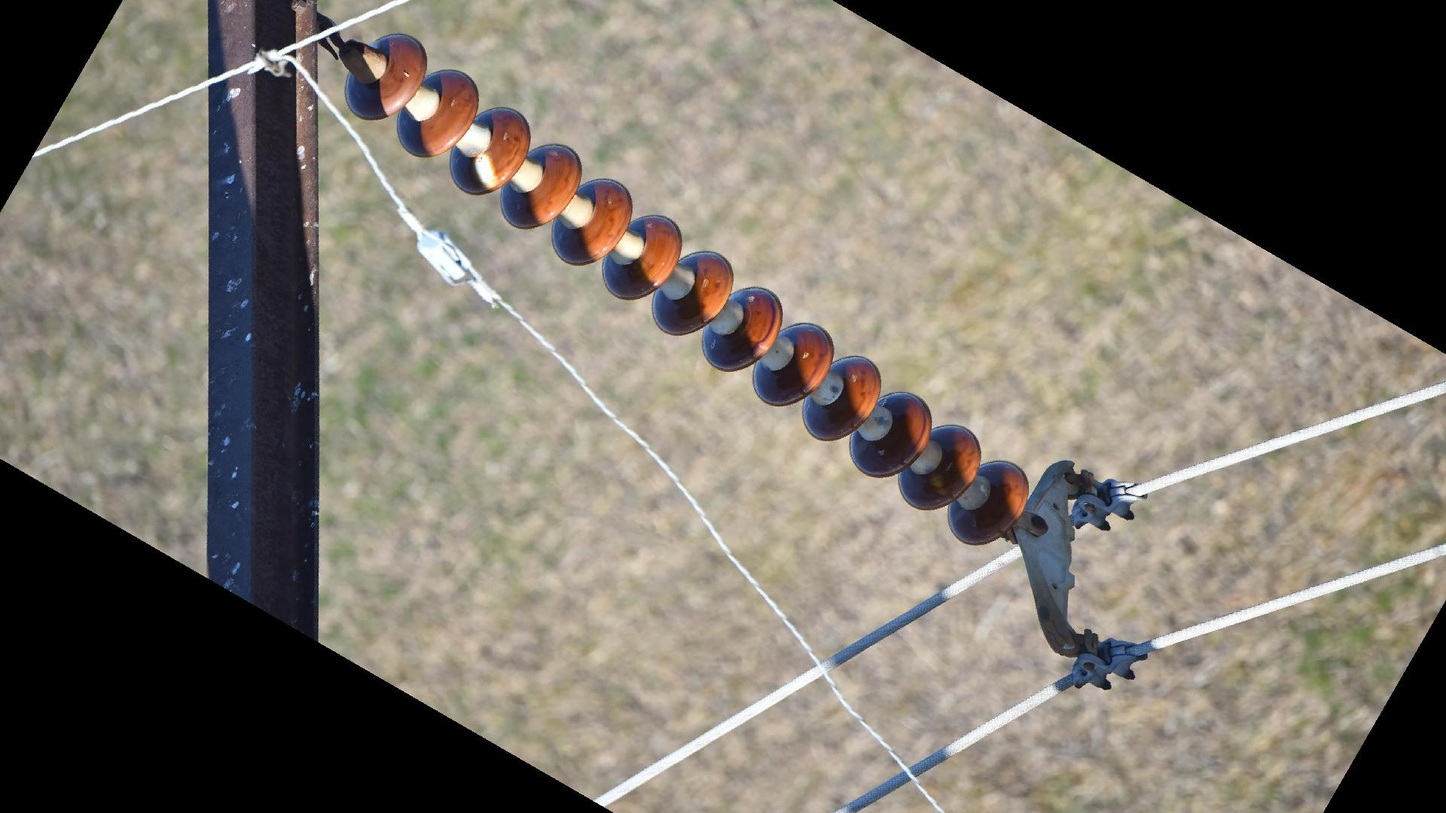insulator: (339, 29, 1037, 550)
insulator_flashover: (472, 151, 502, 193)
